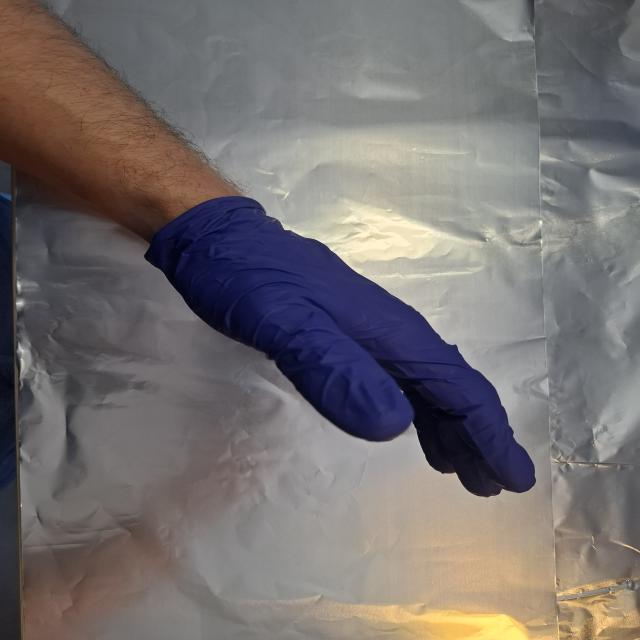glove_on: (154, 201, 540, 501)
